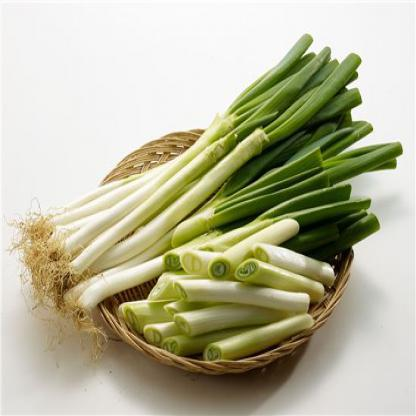green onion: (14, 25, 397, 296)
